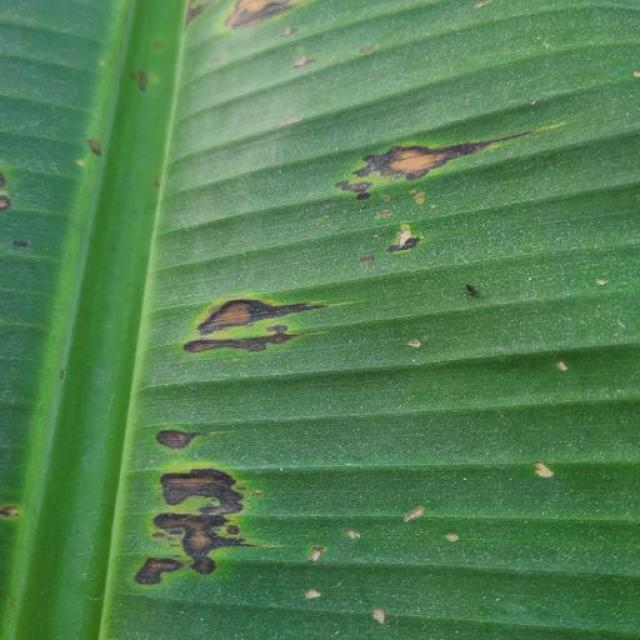Early_rust: (309, 98, 566, 264), (115, 405, 264, 605), (145, 251, 343, 373), (170, 0, 316, 87), (0, 135, 48, 250), (1, 478, 39, 548)
